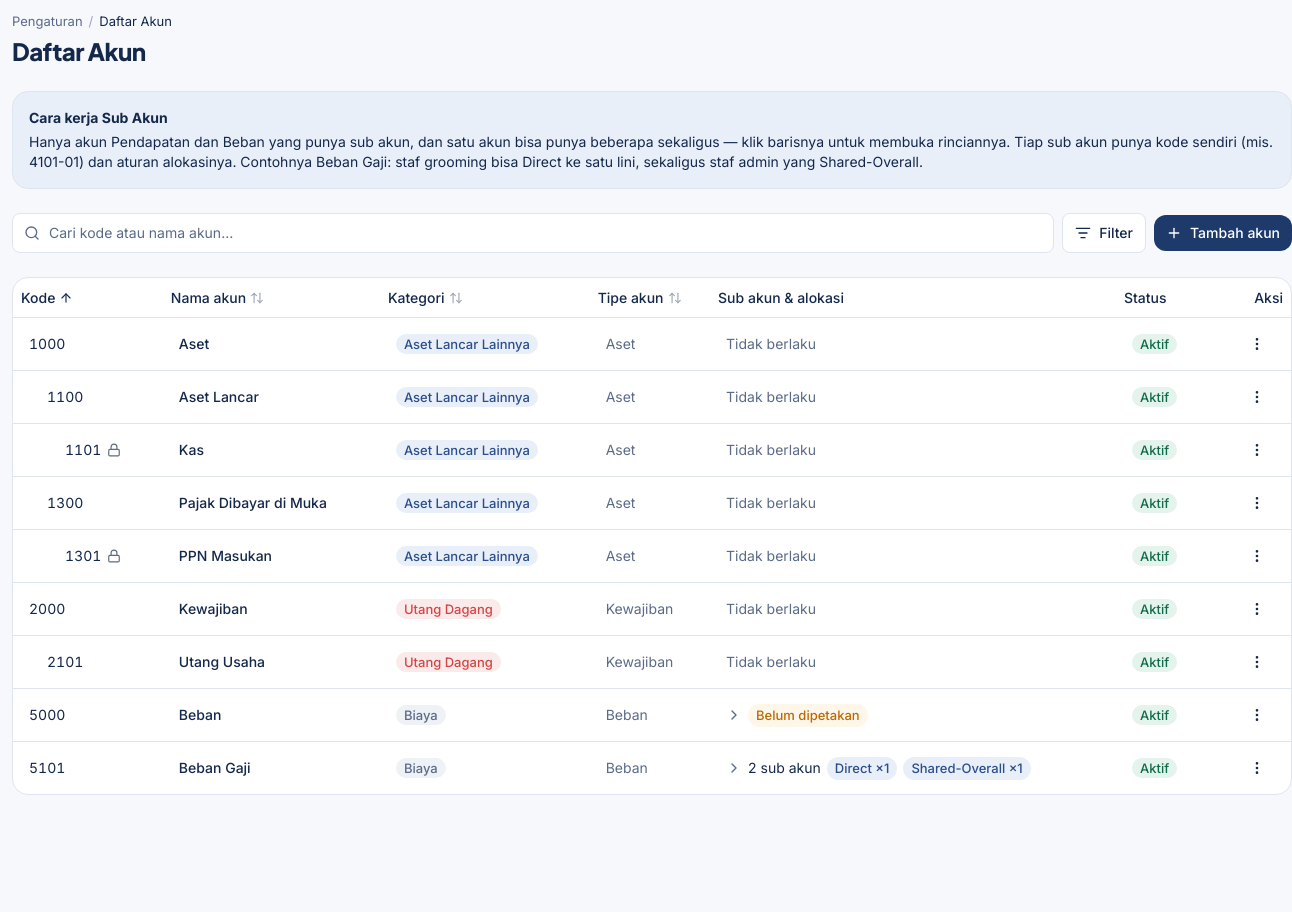
Test: ChartOfAccountsScreen › searches code and name, and shows only what matched
Expected: the table is shown, [13, 278, 1291, 794]
Expected: the text "Cara kerja Sub Akun" is shown, [29, 109, 168, 126]
In the search field named "Cari akun": (533, 233) [12, 213, 1054, 253], type "PPN Masukan"
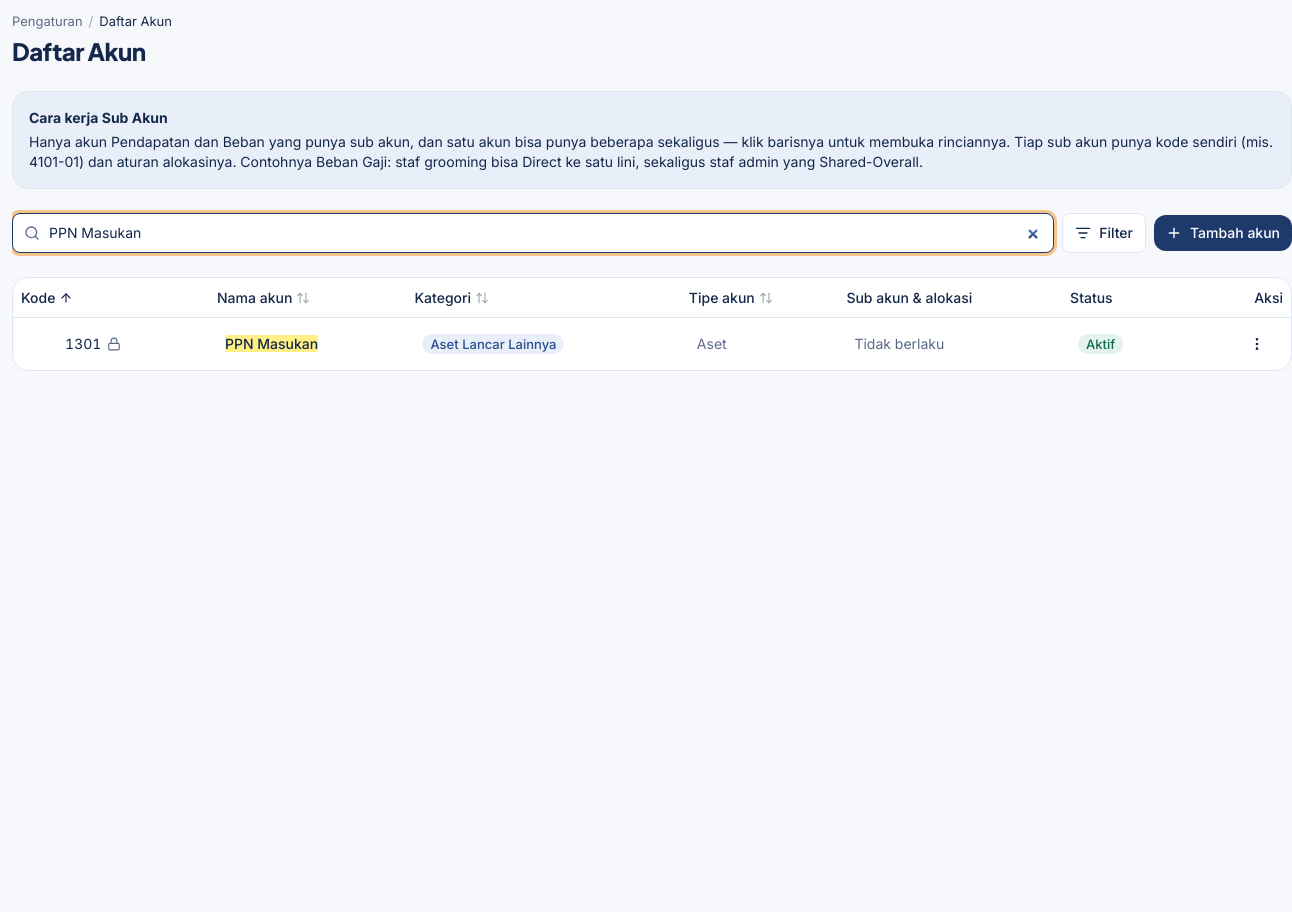
Expected: the text "PPN Masukan" is shown, [225, 335, 318, 352]
Now the text "Utang Usaha" is gone
Now the text "Pajak Dibayar di Muka" is gone
